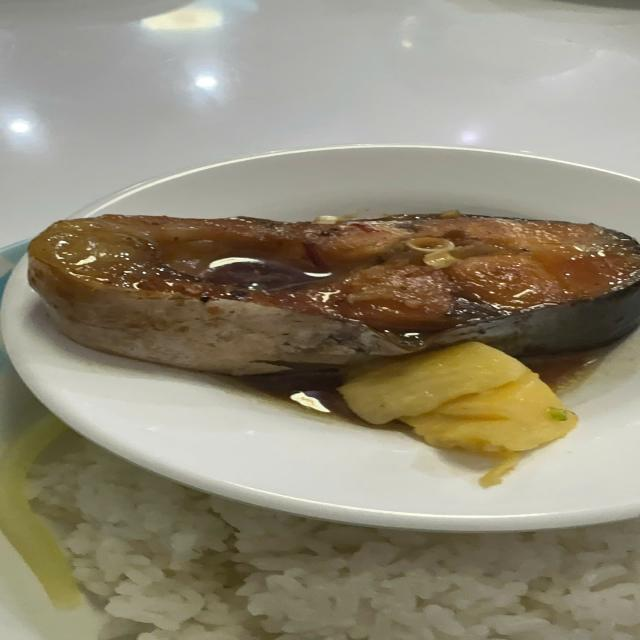ca kho: (28, 211, 640, 375)
